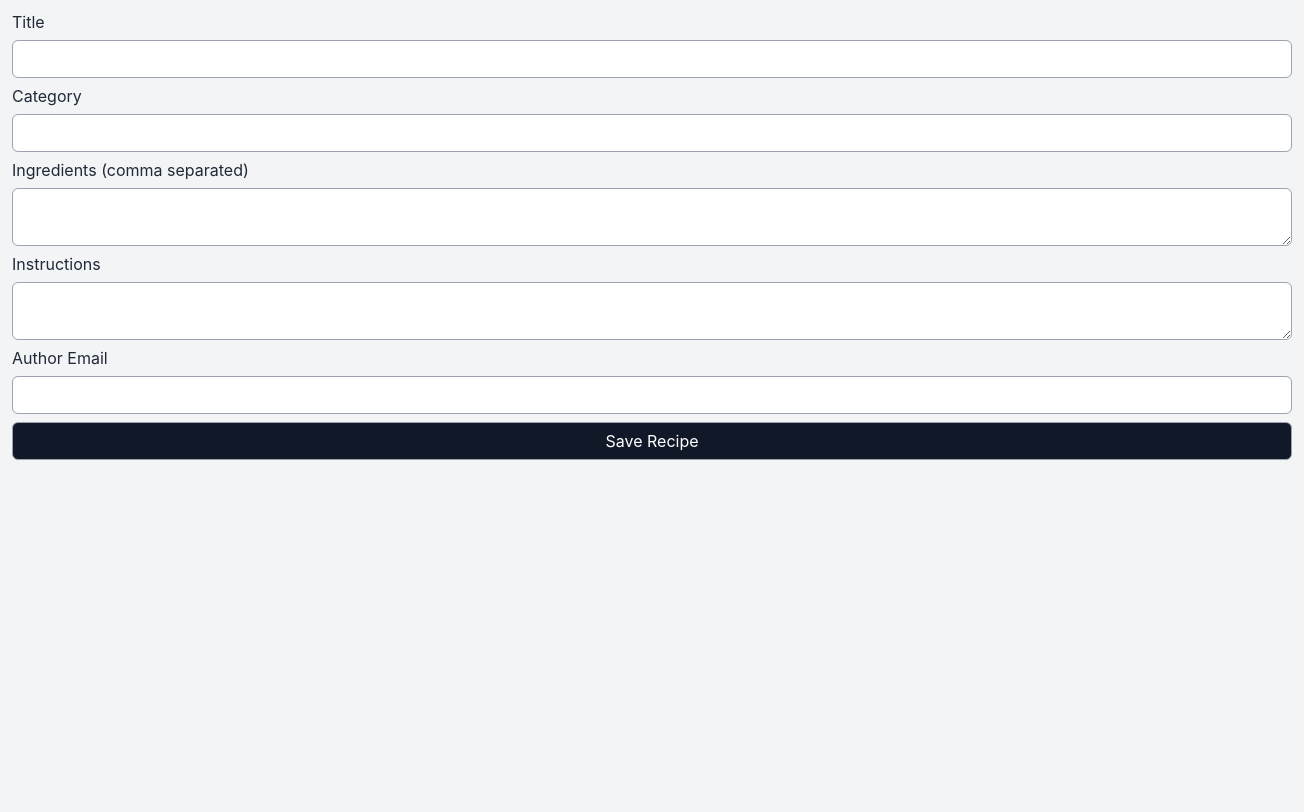
Test: RecipeForm › shows validation errors for empty required fields
The image size is (1304, 812).
Click the button "Save Recipe" at (652, 441), box top-left (12, 422), bottom-right (1292, 460)
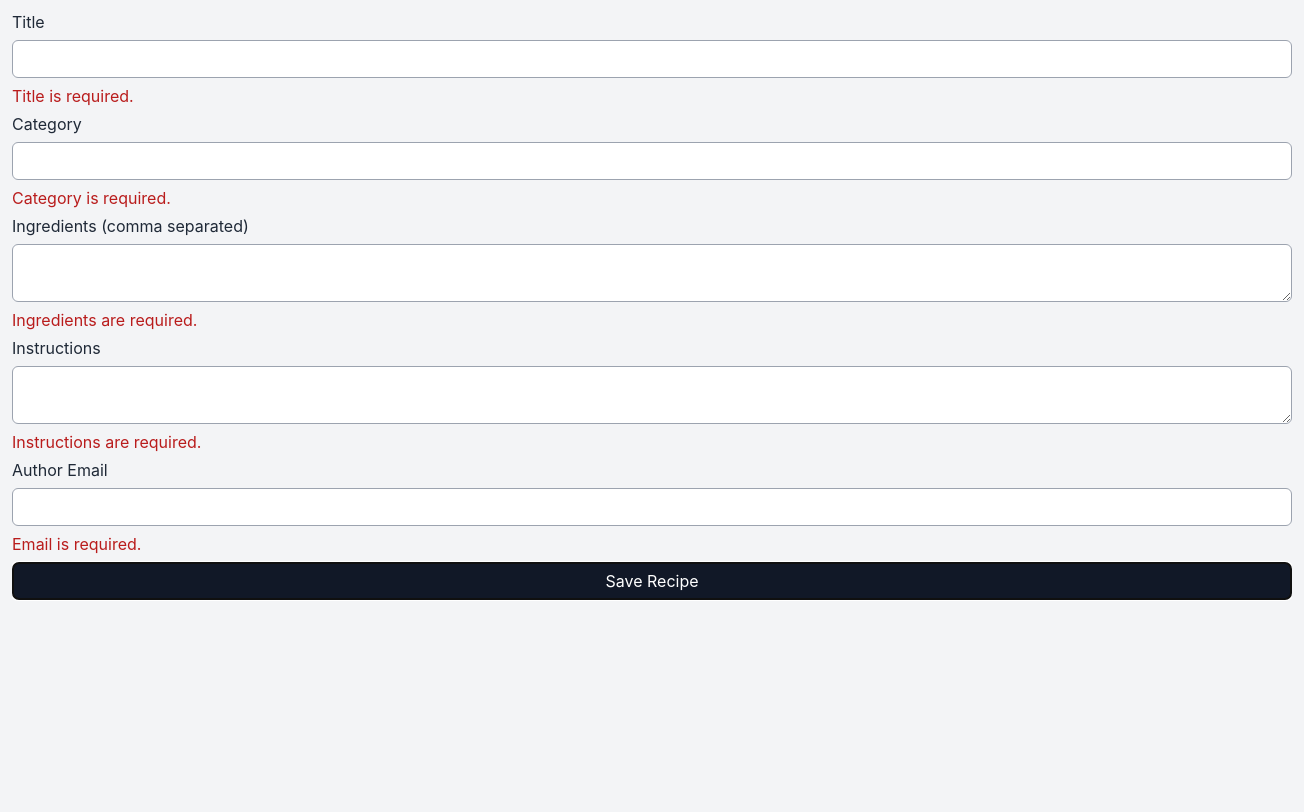
Check: the text "Title is required." is shown, box top-left (12, 86), bottom-right (134, 106)
Check: the text "Email is required." is shown, box top-left (12, 534), bottom-right (141, 554)
